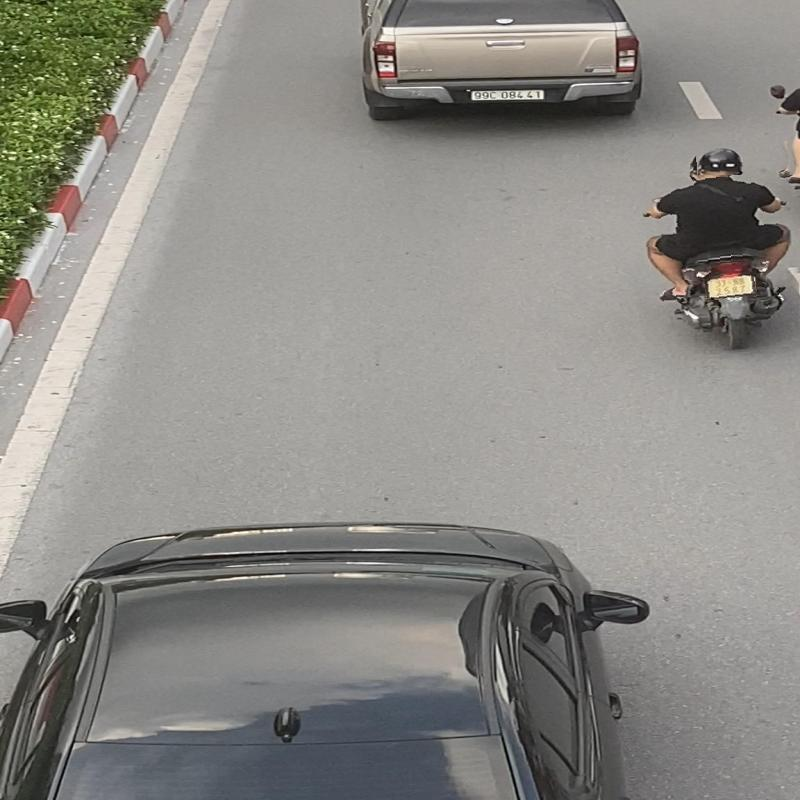helmet: (696, 148, 743, 175)
licenseplate: (704, 274, 756, 299)
motorcyclist: (638, 143, 800, 355)
